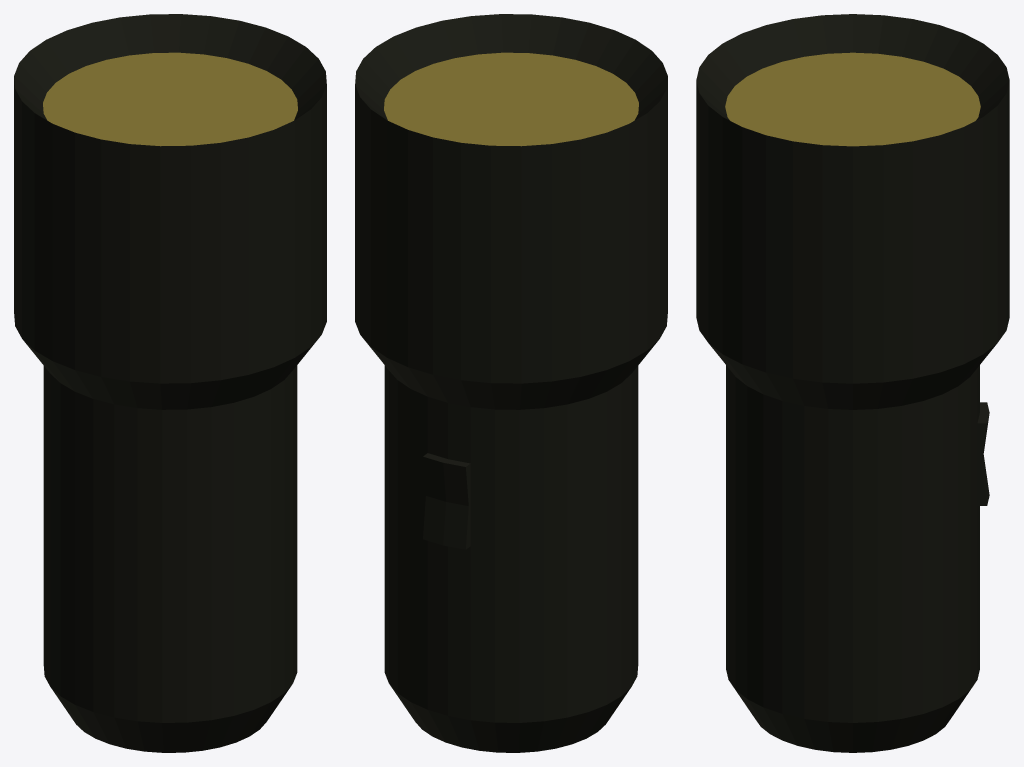
The model's file is flashlight.fbx.
The picture shows the model from 3 angles, left to right: view 1: azimuth 30°, elevation 25°; view 2: azimuth 150°, elevation 25°; view 3: azimuth 270°, elevation 25°; orthographic projection.
Parts seen in each view (by area): view 1: Flashlight; view 2: Flashlight; view 3: Flashlight.
Part boxes in pixels (left/top/right/bottom): Flashlight: left=14, top=14, right=326, bottom=752; Flashlight: left=355, top=14, right=667, bottom=752; Flashlight: left=696, top=14, right=1009, bottom=752.
Size of the model in its own units: 192 by 427 by 192.
